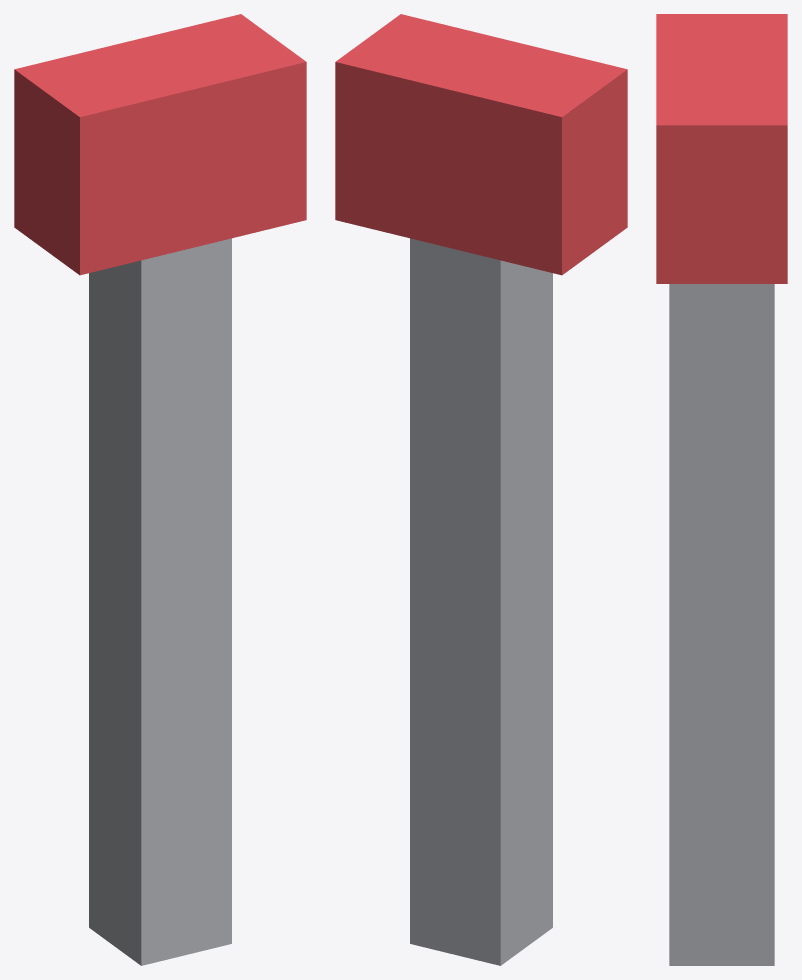
The model's file is item_F2_Tool.glb.
3 renders of one model, left to right at view 1: azimuth 30°, elevation 25°; view 2: azimuth 150°, elevation 25°; view 3: azimuth 270°, elevation 25°, orthographic.
Parts seen in each view (by area): view 1: Item_F2_Tool; view 2: Item_F2_Tool; view 3: Item_F2_Tool.
Boxes of the visible parts, <box> form: Item_F2_Tool: <box>14,14,306,965</box>; Item_F2_Tool: <box>335,14,627,965</box>; Item_F2_Tool: <box>656,14,787,965</box>.
Size of the model in its own units: 0.06 by 0.22 by 0.03.
